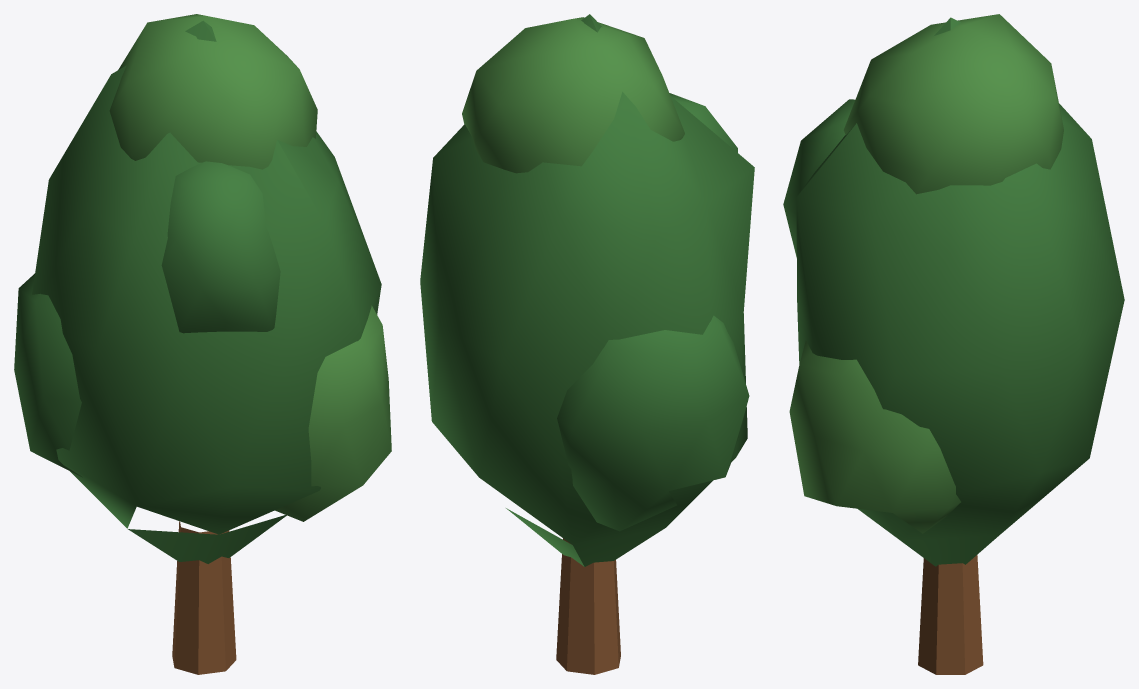
The model's file is tree_grove.glb.
3 views of the same model, side by side, from view 1: azimuth 30°, elevation 25°; view 2: azimuth 150°, elevation 25°; view 3: azimuth 270°, elevation 25° (orthographic).
Visible parts, largest first — view 1: tree_grove; view 2: tree_grove; view 3: tree_grove.
Boxes of the visible parts, x1=… form: tree_grove: x1=14, y1=14, x2=391, y2=674; tree_grove: x1=420, y1=14, x2=754, y2=674; tree_grove: x1=783, y1=14, x2=1124, y2=674.
Bounding box in the file's own units: 2.8 × 5.52 × 2.65.
1 material, 1 textured.
